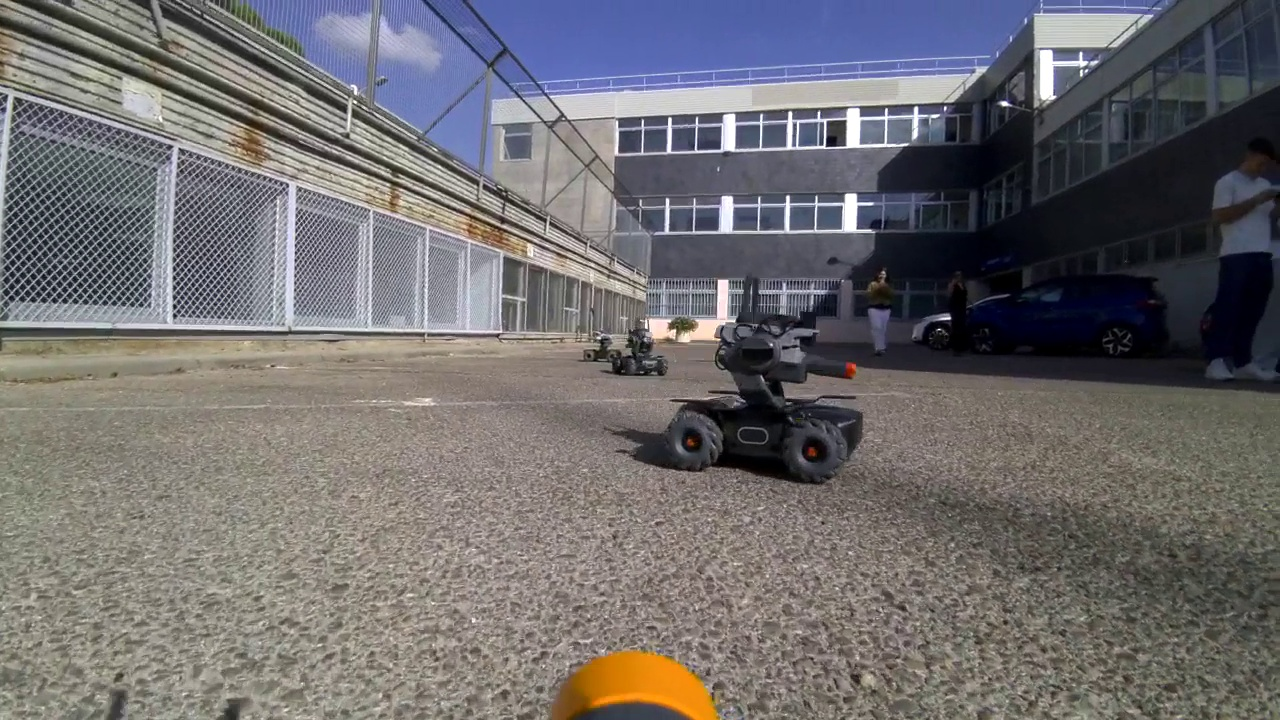robot: (672, 281, 856, 484), (608, 322, 668, 382), (582, 326, 624, 364)
